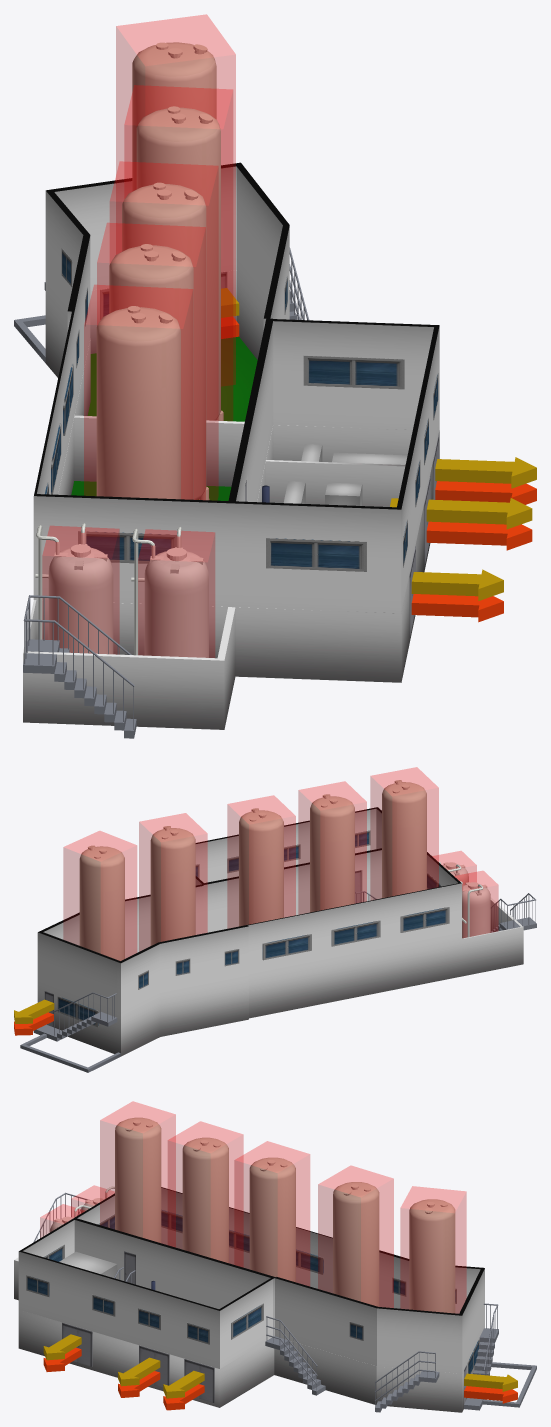
The model's file is soulbrain_T6-2-1F.glb.
3 renders of one model, top to bottom at view 1: azimuth 30°, elevation 25°; view 2: azimuth 150°, elevation 25°; view 3: azimuth 270°, elevation 25°, orthographic. The views are drawn at different scales.
Parts seen in each view (by area): view 1: Box039, ChamferCyl059, equipment-T6-2-1F-005, equipment-T6-2-1F-002, equipment-T6-2-1F-001, equipment-T6-2-1F-003, T6-2-1F, equipment-T6-2-1F-004, Box211, equipment-T6-2-1F-007, equipment-T6-2-1F-006, Line098 (+9 smaller); view 2: Box039, ChamferCyl059, equipment-T6-2-1F-001, equipment-T6-2-1F-002, equipment-T6-2-1F-004, equipment-T6-2-1F-005, equipment-T6-2-1F-003, Box211, T6-2-1F, Line098, equipment-T6-2-1F-006, equipment-T6-2-1F-007 (+3 smaller); view 3: Box039, ChamferCyl059, equipment-T6-2-1F-005, equipment-T6-2-1F-003, equipment-T6-2-1F-002, equipment-T6-2-1F-004, equipment-T6-2-1F-001, Line098, Box211, Box044, Box224, equipment-T6-2-1F-007 (+11 smaller).
Part boxes in pixels (x1,y1,x2,y2): Box039: (23, 162, 439, 729); ChamferCyl059: (96, 42, 223, 500); equipment-T6-2-1F-005: (84, 285, 192, 499); equipment-T6-2-1F-002: (124, 85, 232, 420); equipment-T6-2-1F-001: (116, 14, 235, 385); equipment-T6-2-1F-003: (110, 161, 218, 500); T6-2-1F: (35, 271, 227, 657); equipment-T6-2-1F-004: (97, 223, 205, 499); Box211: (45, 248, 438, 571); equipment-T6-2-1F-007: (138, 529, 214, 657); equipment-T6-2-1F-006: (42, 526, 119, 654); Line098: (23, 247, 309, 738); Box039: (37, 807, 523, 1056); ChamferCyl059: (79, 780, 426, 960); equipment-T6-2-1F-001: (63, 831, 136, 960); equipment-T6-2-1F-002: (139, 813, 207, 951); equipment-T6-2-1F-004: (298, 781, 366, 914); equipment-T6-2-1F-005: (370, 767, 438, 899); equipment-T6-2-1F-003: (227, 795, 295, 928); Box211: (138, 830, 449, 989); T6-2-1F: (44, 861, 490, 1027); Line098: (33, 891, 536, 1041); equipment-T6-2-1F-006: (454, 871, 498, 937); equipment-T6-2-1F-007: (433, 851, 476, 884); Box039: (14, 1187, 484, 1412); ChamferCyl059: (115, 1117, 455, 1313); equipment-T6-2-1F-005: (100, 1101, 175, 1246); equipment-T6-2-1F-003: (234, 1141, 309, 1285); equipment-T6-2-1F-002: (318, 1166, 393, 1307); equipment-T6-2-1F-004: (168, 1121, 243, 1266); equipment-T6-2-1F-001: (400, 1186, 466, 1313); Line098: (33, 1192, 498, 1412); Box211: (26, 1209, 456, 1344); Box044: (62, 1322, 214, 1402); Box224: (59, 1251, 117, 1278); equipment-T6-2-1F-007: (40, 1204, 84, 1237).
Size of the model in its own units: 20.95 by 11.13 by 28.01.
Materials: 19 (13 with a texture image).
